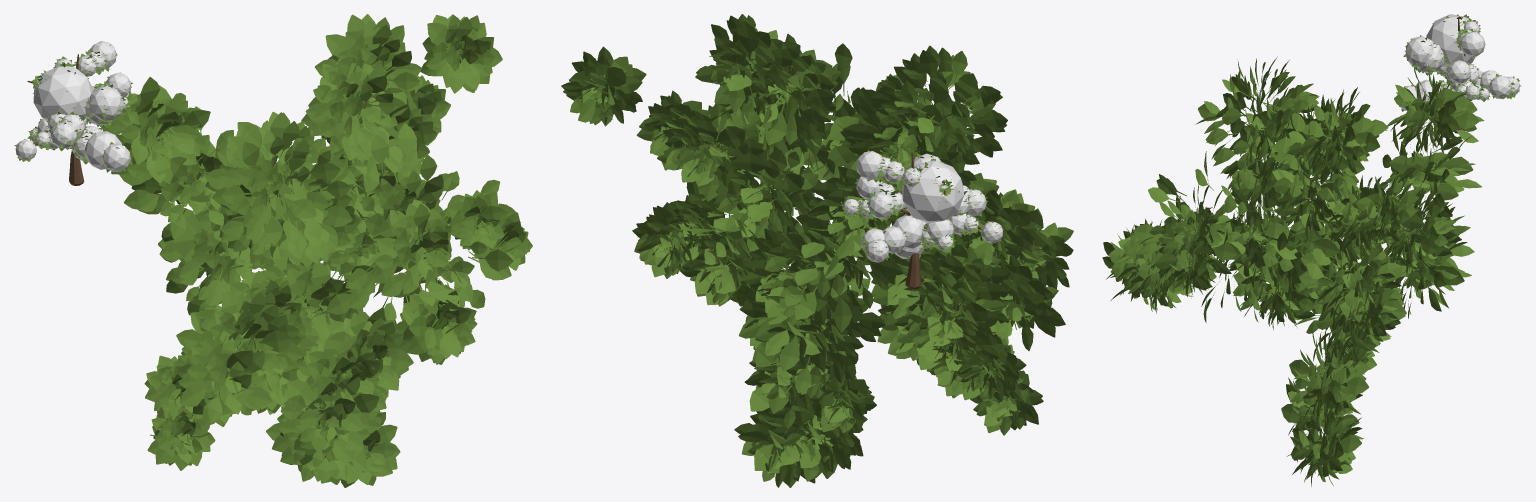
File: oaktree (1).fbx
The picture shows the model from 3 angles, left to right: view 1: azimuth 30°, elevation 25°; view 2: azimuth 150°, elevation 25°; view 3: azimuth 270°, elevation 25°; orthographic projection. The views are drawn at different scales.
Parts seen in each view (by area): view 1: Leaf, Folliage, Leaf.010; view 2: Leaf, Folliage, Leaf.010, Tree; view 3: Leaf, Folliage, Leaf.010.
Boxes of the visible parts, x1,y1,x2,y2 form: Leaf: [101, 14, 532, 487]; Folliage: [15, 41, 131, 172]; Leaf.010: [14, 44, 132, 172]; Leaf: [561, 14, 1073, 487]; Folliage: [843, 151, 1002, 262]; Leaf.010: [840, 150, 1003, 260]; Tree: [899, 152, 981, 289]; Leaf: [1102, 56, 1484, 486]; Folliage: [1397, 14, 1519, 110]; Leaf.010: [1396, 14, 1521, 111].
Bounding box in the file's own units: 3461 × 3338 × 3124.
